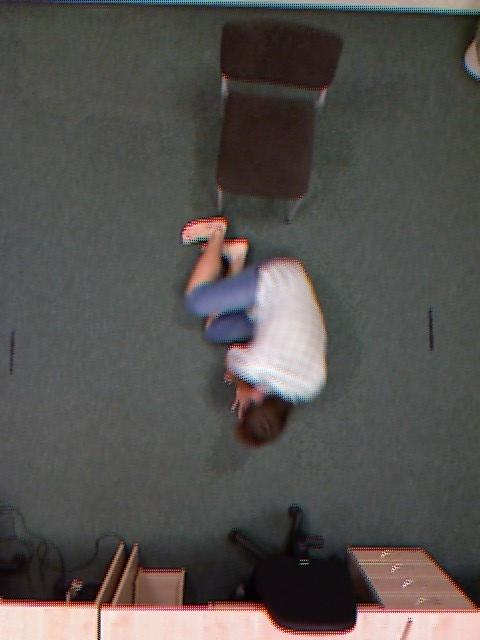fall: (167, 230, 346, 435)
